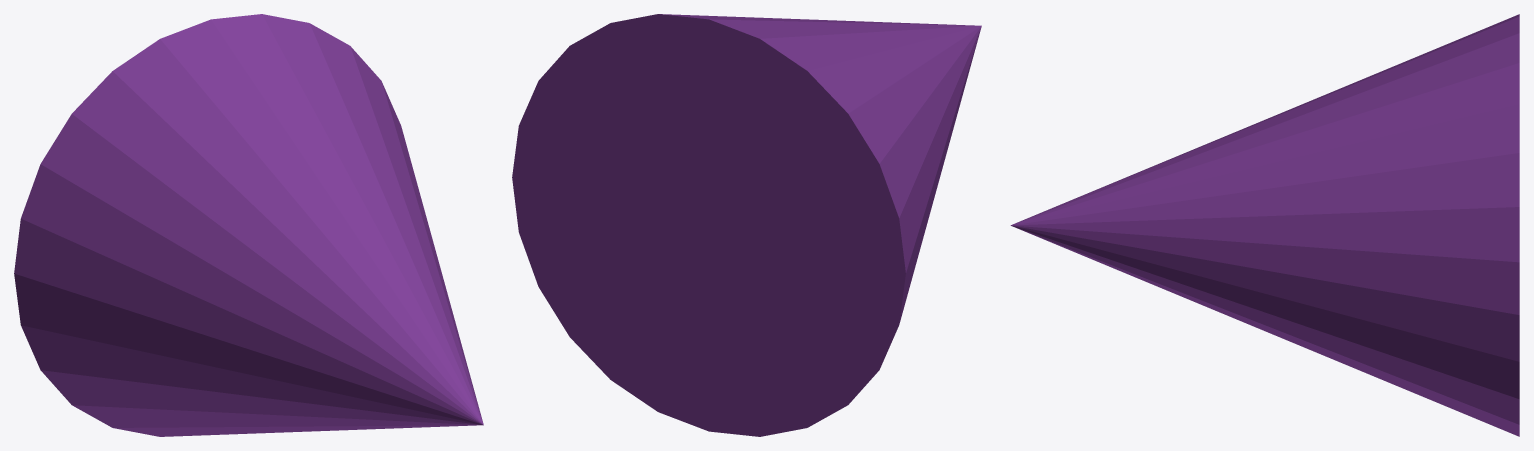
3 renders of one model, left to right at view 1: azimuth 30°, elevation 25°; view 2: azimuth 150°, elevation 25°; view 3: azimuth 270°, elevation 25°, orthographic. The views are drawn at different scales.
Visible parts, largest first — view 1: group_8273816; view 2: group_8273816; view 3: group_8273816.
Boxes of the visible parts, bbox=[...] form: group_8273816: bbox=[14, 14, 483, 436]; group_8273816: bbox=[512, 14, 981, 436]; group_8273816: bbox=[1010, 14, 1519, 436].
Bounding box in the file's own units: 50 × 50 × 60.
